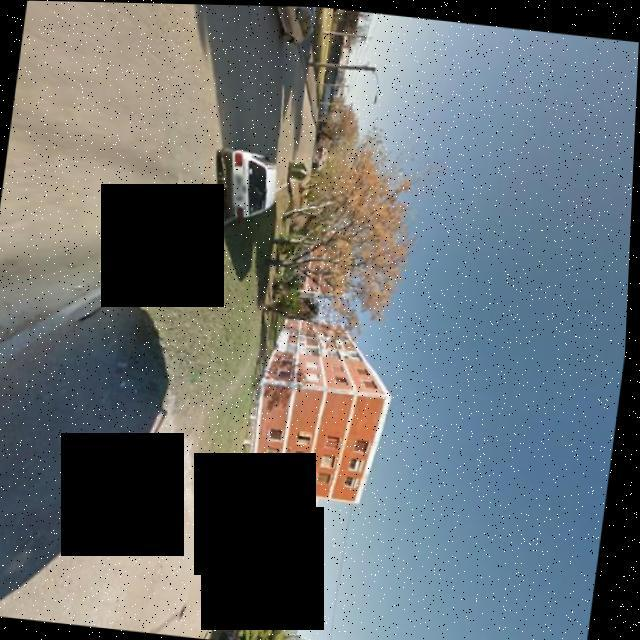bin: (283, 154, 317, 186)
